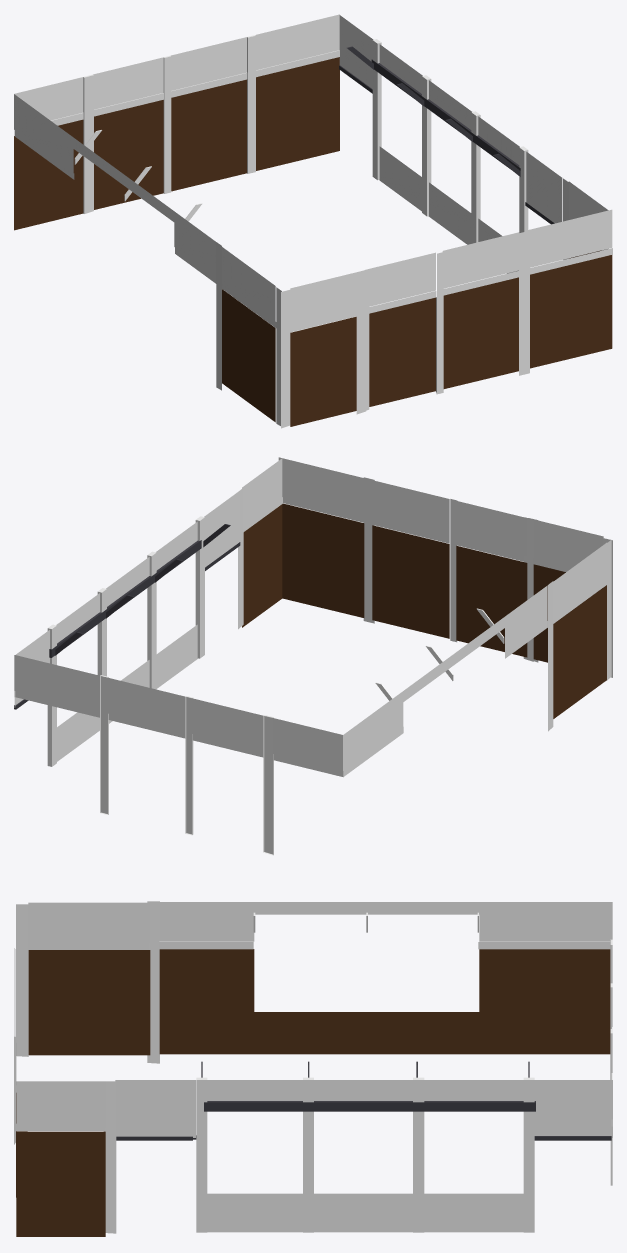
File: classroom_wall.glb
3 renders of one model, top to bottom at view 1: azimuth 30°, elevation 25°; view 2: azimuth 150°, elevation 25°; view 3: azimuth 270°, elevation 25°, orthographic. The views are drawn at different scales.
Parts seen in each view (by area): view 1: wall, wall.001; view 2: wall, wall.001; view 3: wall, wall.001.
Part boxes in pixels (x1,y1,x2,y2): wall: (14,14,612,428); wall.001: (339,15,562,273); wall: (14,457,612,855); wall.001: (14,491,240,766); wall: (14,901,612,1236); wall.001: (115,1061,612,1232).
Bounding box in the file's own units: 22.02 × 9.27 × 30.84.
